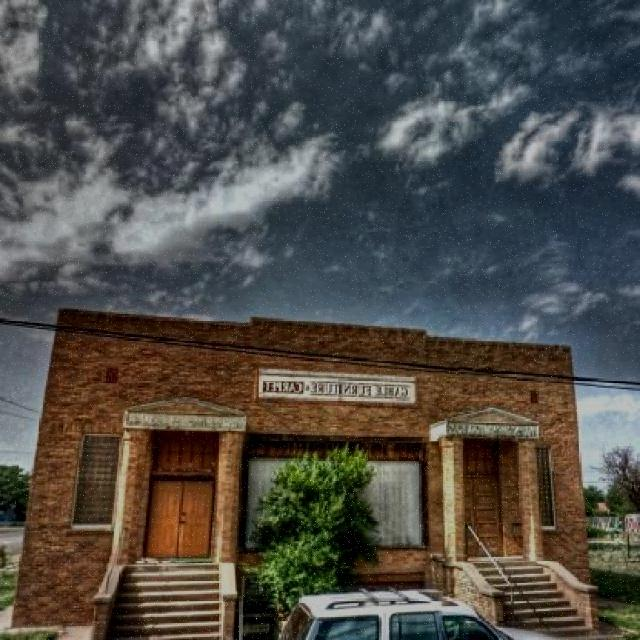stair: (104, 532, 218, 640), (476, 544, 598, 628)
